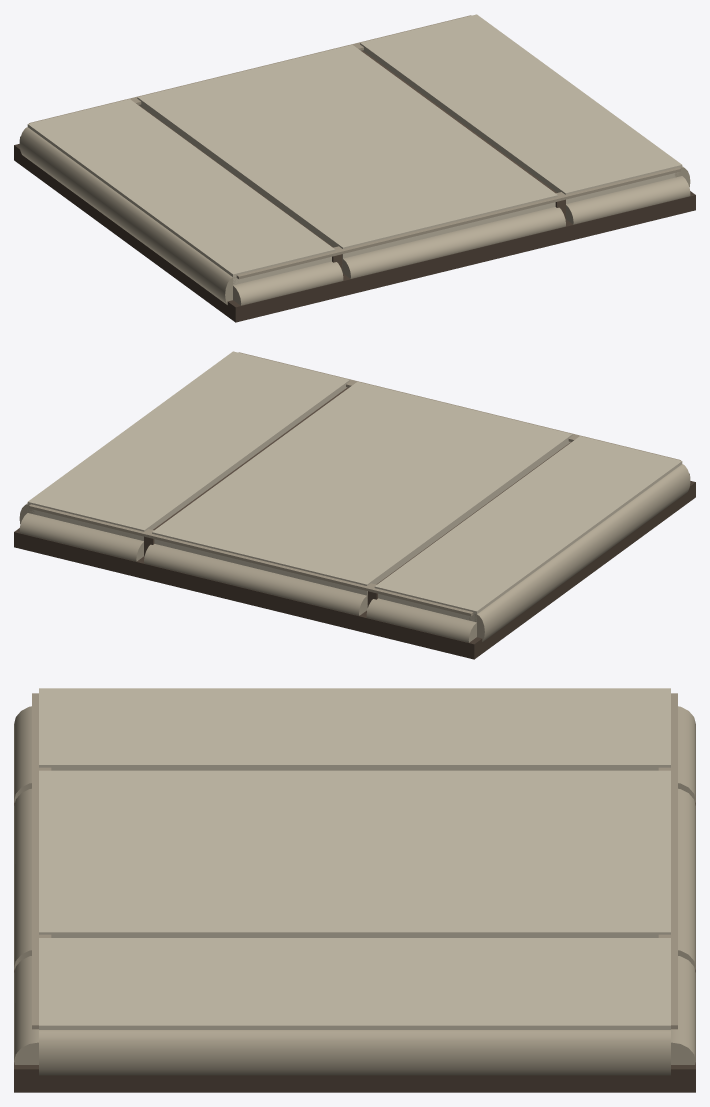
The model's file is CMU3DBedroll.glb.
The picture shows the model from 3 angles, top to bottom: view 1: azimuth 30°, elevation 25°; view 2: azimuth 150°, elevation 25°; view 3: azimuth 270°, elevation 25°; orthographic projection. The views are drawn at different scales.
Parts seen in each view (by area): view 1: padded tan section (×3), brown fabric underside, soft edge piping (×3), rounded end seam, edge stitching (×2), stitched dark channel; view 2: padded tan section (×3), brown fabric underside, soft edge piping (×3), rounded end seam, edge stitching (×2), stitched dark channel; view 3: padded tan section (×3), rounded end seam, soft edge piping (×6), brown fabric underside, edge stitching (×2).
Part boxes in pixels (x1,y1,x2,y2): padded tan section (×3): (27, 14, 682, 285); brown fabric underside: (14, 144, 695, 322); soft edge piping (×3): (233, 176, 690, 305); rounded end seam: (19, 127, 235, 304); edge stitching (×2): (29, 15, 680, 279); stitched dark channel: (361, 50, 565, 219); padded tan section (×3): (27, 351, 682, 621); brown fabric underside: (14, 481, 695, 659); soft edge piping (×3): (19, 513, 476, 642); rounded end seam: (469, 464, 690, 641); edge stitching (×2): (29, 352, 680, 616); stitched dark channel: (144, 387, 348, 556); padded tan section (×3): (39, 688, 670, 1029); rounded end seam: (39, 1030, 670, 1075); soft edge piping (×6): (14, 706, 695, 1064); brown fabric underside: (14, 802, 695, 1092); edge stitching (×2): (32, 693, 677, 1029).
Size of the model in its own units: 0.928 by 0.078 by 0.7657.
